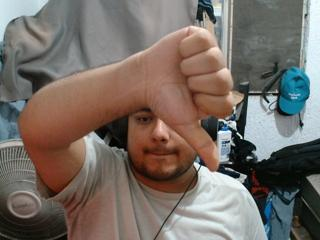Atras: (125, 23, 251, 181)
